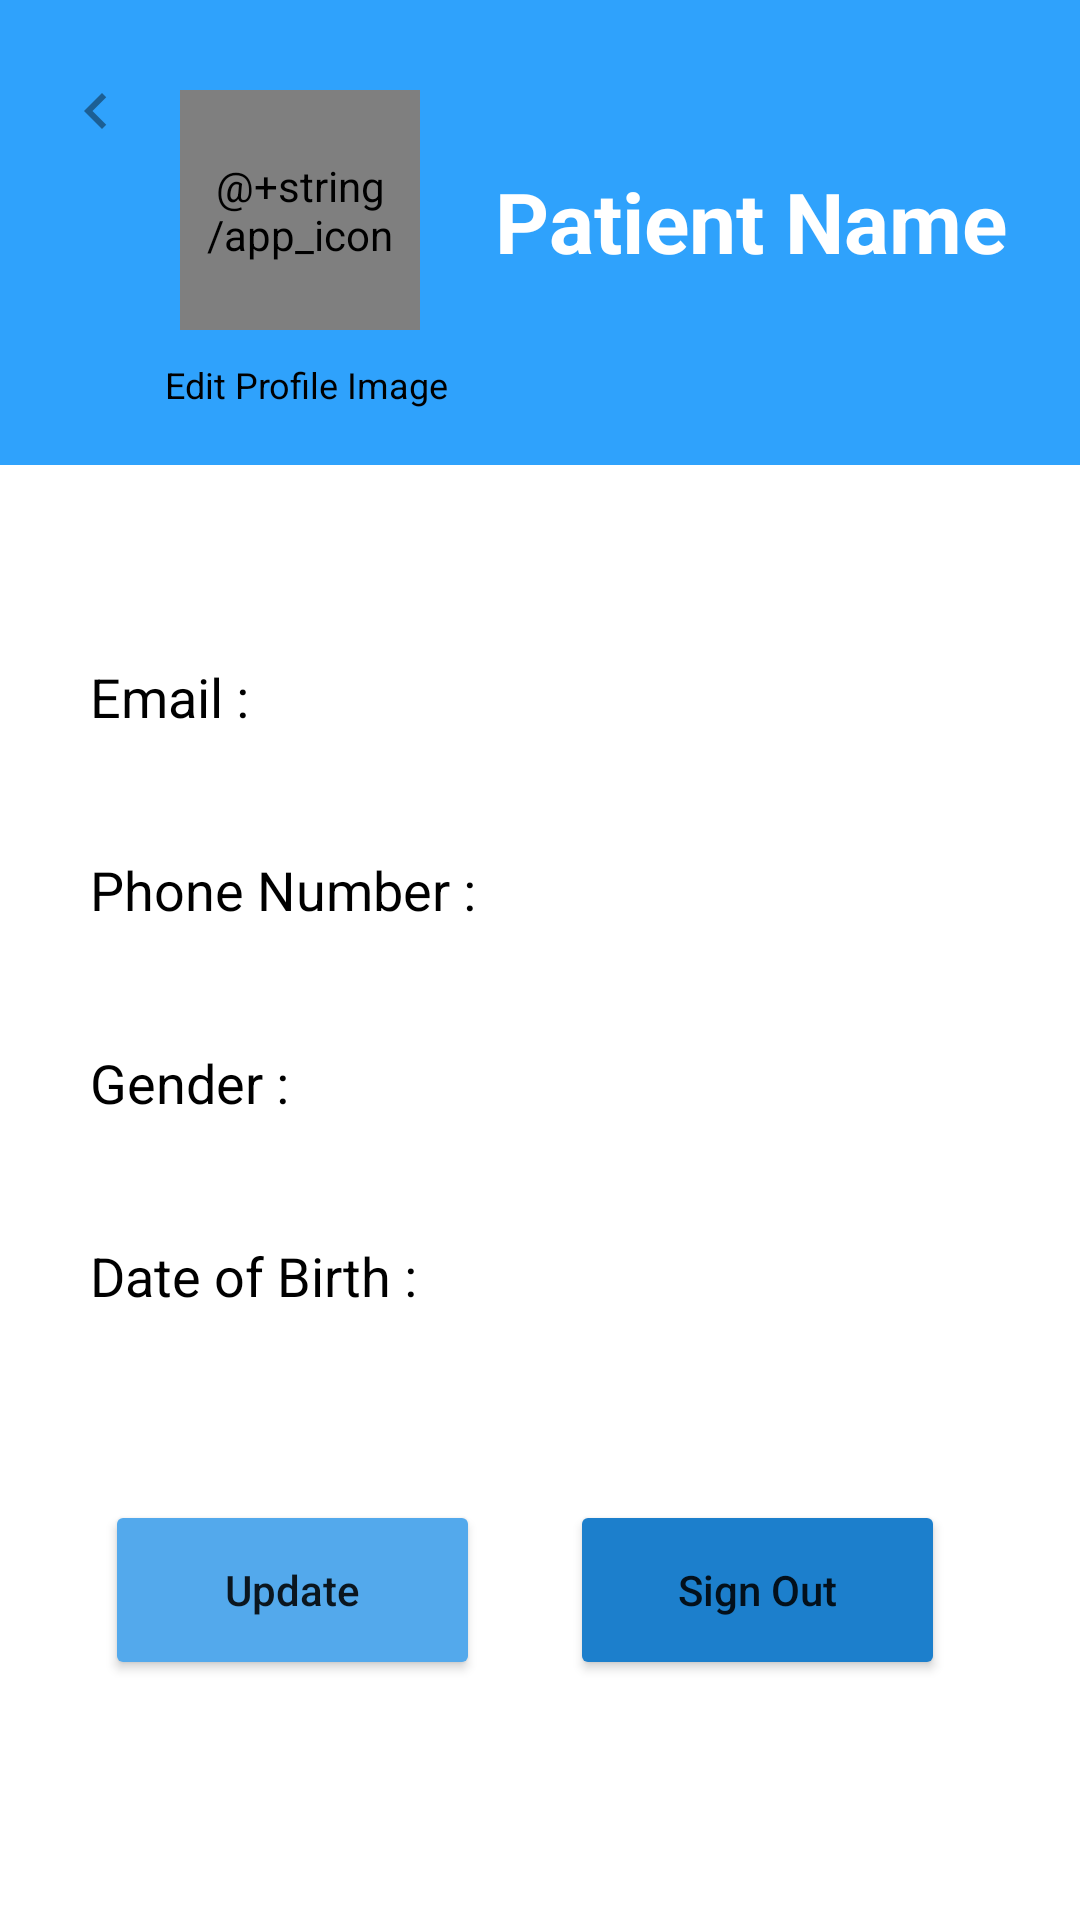

Icons on this 1080 x 1920 Android screen, each with its box as rect(x1, y1, x2, y2):
back: rect(84, 93, 106, 129)
